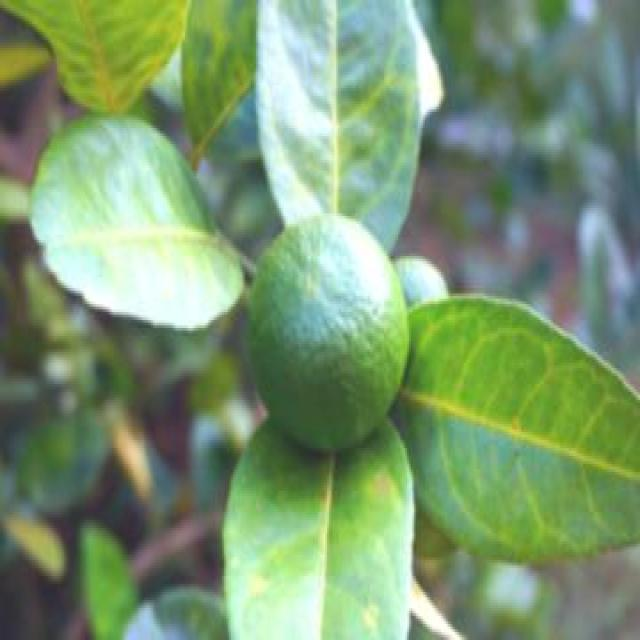heathy: (245, 217, 410, 448)
